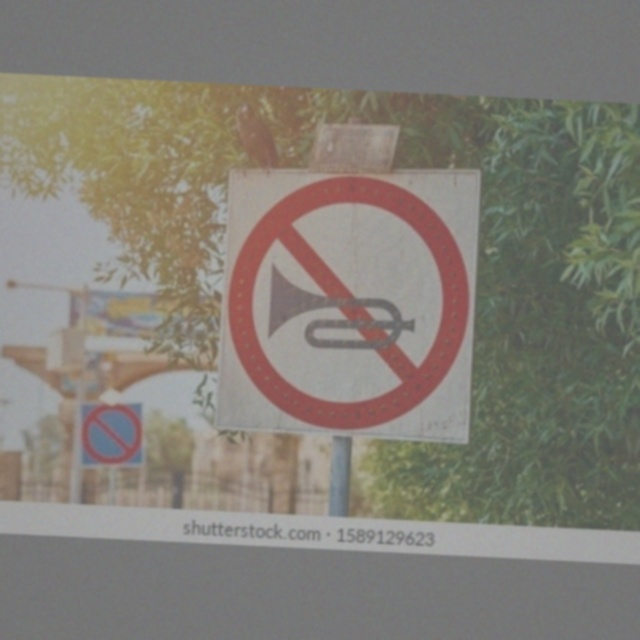Horn_Prohibited: (219, 167, 475, 436)
